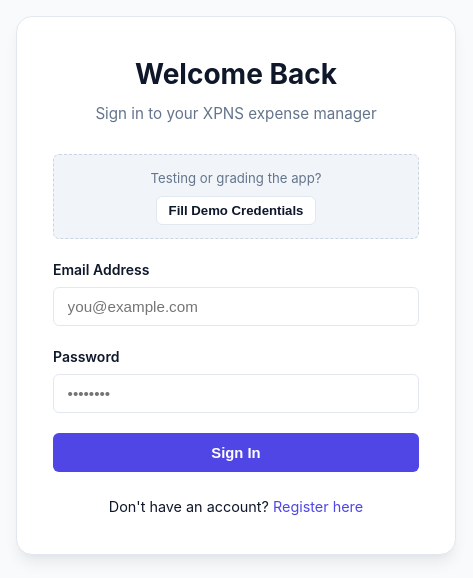
it: Login Component › populates demo credentials when "Fill Demo Credentials" is clicked
Step 1. Click the button "Fill Demo Credentials" → (236, 210), box [156,196,316,224]
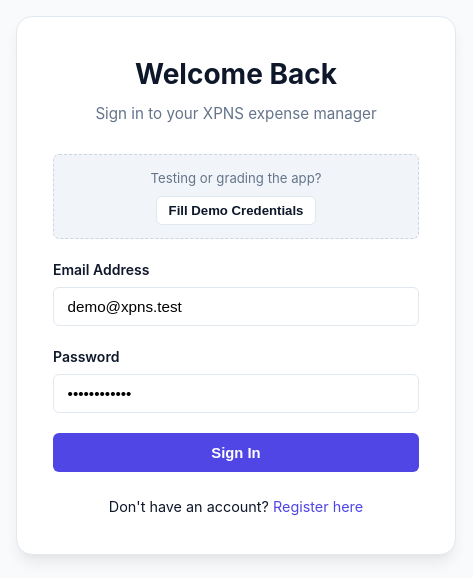
Result: the field labelled "Email Address" holds "demo@xpns.test" at [53,286,419,326]
Result: the password field labelled "Password" holds "DemoUser123!" at [53,374,419,414]
